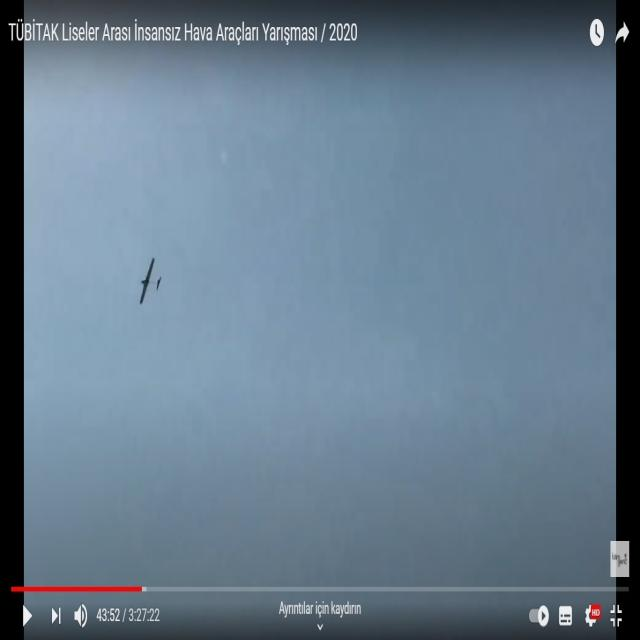iha: (140, 258, 161, 304)
